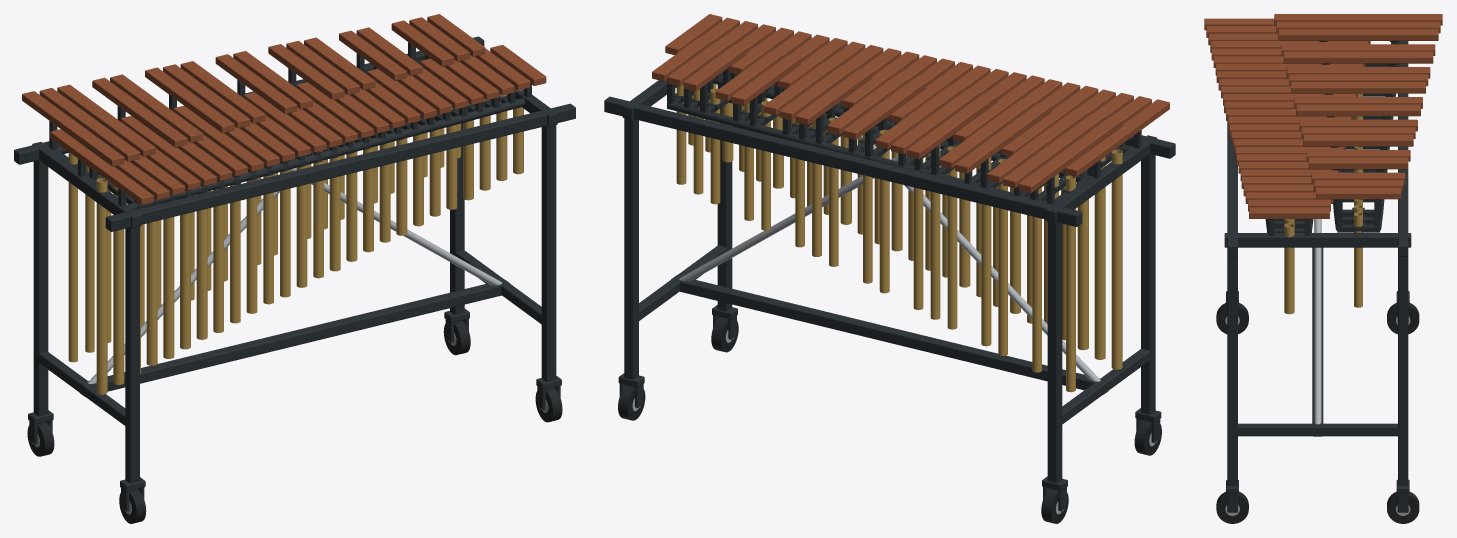
File: A-NEW-20261026-WOOD-XYLOPHONE-001_LOD0_R3.glb
3 views of the same model, side by side, from view 1: azimuth 30°, elevation 25°; view 2: azimuth 150°, elevation 25°; view 3: azimuth 270°, elevation 25° (orthographic). The views are drawn at different scales.
Parts seen in each view (by area): view 1: long top frame -0.21, lower longitudinal stabilizer, stand leg 0.55 -0.21, stand leg -0.55 0.21, stand leg -0.55 -0.21, bar support longitudinal rail 0, open resonator tube 00, open resonator tube 02, open resonator tube 01, wood note bar 01, top cross member -0.55, wood note bar 00 (+71 smaller); view 2: long top frame 0.21, lower longitudinal stabilizer, stand leg -0.55 0.21, stand leg 0.55 0.21, stand leg -0.55 -0.21, open resonator tube 00, bar support longitudinal rail 3, open resonator tube 02, wood note bar 01, stand leg 0.55 -0.21, top cross member -0.55, wood note bar 00 (+51 smaller); view 3: stand leg 0.55 -0.21, stand leg 0.55 0.21, top cross member 0.55, bottom cross member 0.55, wood note bar 10, wood note bar 05, wood note bar 22, wood note bar 17, diagonal brace right, wood note bar 29, wood note bar 01, wood note bar 03 (+46 smaller).
Part boxes in pixels (x1=…): long top frame -0.21: x1=105, y1=103, x2=575, y2=231; lower longitudinal stabilizer: x1=79, y1=279, x2=509, y2=396; stand leg 0.55 -0.21: x1=541, y1=125, x2=556, y2=381; stand leg -0.55 0.21: x1=33, y1=160, x2=48, y2=416; stand leg -0.55 -0.21: x1=125, y1=226, x2=139, y2=483; bar support longitudinal rail 0: x1=127, y1=98, x2=525, y2=209; open resonator tube 00: x1=96, y1=178, x2=107, y2=394; open resonator tube 02: x1=113, y1=185, x2=124, y2=384; open resonator tube 01: x1=68, y1=152, x2=77, y2=362; wood note bar 01: x1=22, y1=91, x2=124, y2=166; top cross member -0.55: x1=32, y1=142, x2=141, y2=228; wood note bar 00: x1=50, y1=129, x2=153, y2=205; long top frame 0.21: x1=604, y1=96, x2=1082, y2=226; lower longitudinal stabilizer: x1=671, y1=275, x2=1108, y2=394; stand leg -0.55 0.21: x1=1047, y1=221, x2=1062, y2=482; stand leg 0.55 0.21: x1=624, y1=118, x2=638, y2=379; stand leg -0.55 -0.21: x1=1141, y1=154, x2=1155, y2=414; open resonator tube 00: x1=1111, y1=149, x2=1122, y2=369; bar support longitudinal rail 3: x1=669, y1=101, x2=1046, y2=202; open resonator tube 02: x1=1094, y1=156, x2=1105, y2=359; wood note bar 01: x1=1018, y1=116, x2=1123, y2=192; stand leg 0.55 -0.21: x1=717, y1=84, x2=732, y2=311; top cross member -0.55: x1=1046, y1=135, x2=1157, y2=223; wood note bar 00: x1=1064, y1=99, x2=1169, y2=176; stand leg 0.55 -0.21: x1=1227, y1=256, x2=1237, y2=485; stand leg 0.55 0.21: x1=1398, y1=256, x2=1408, y2=485; top cross member 0.55: x1=1224, y1=233, x2=1411, y2=247; bottom cross member 0.55: x1=1237, y1=423, x2=1398, y2=436; wood note bar 10: x1=1283, y1=51, x2=1433, y2=63; wood note bar 05: x1=1278, y1=29, x2=1438, y2=40; wood note bar 22: x1=1296, y1=104, x2=1420, y2=116; wood note bar 17: x1=1291, y1=82, x2=1425, y2=93; diagonal brace right: x1=1314, y1=219, x2=1321, y2=424; wood note bar 29: x1=1303, y1=134, x2=1413, y2=146; wood note bar 01: x1=1274, y1=14, x2=1442, y2=25; wood note bar 03: x1=1276, y1=21, x2=1440, y2=33.
Bounding box in the file's own units: 1.23 × 0.87 × 0.5874.
